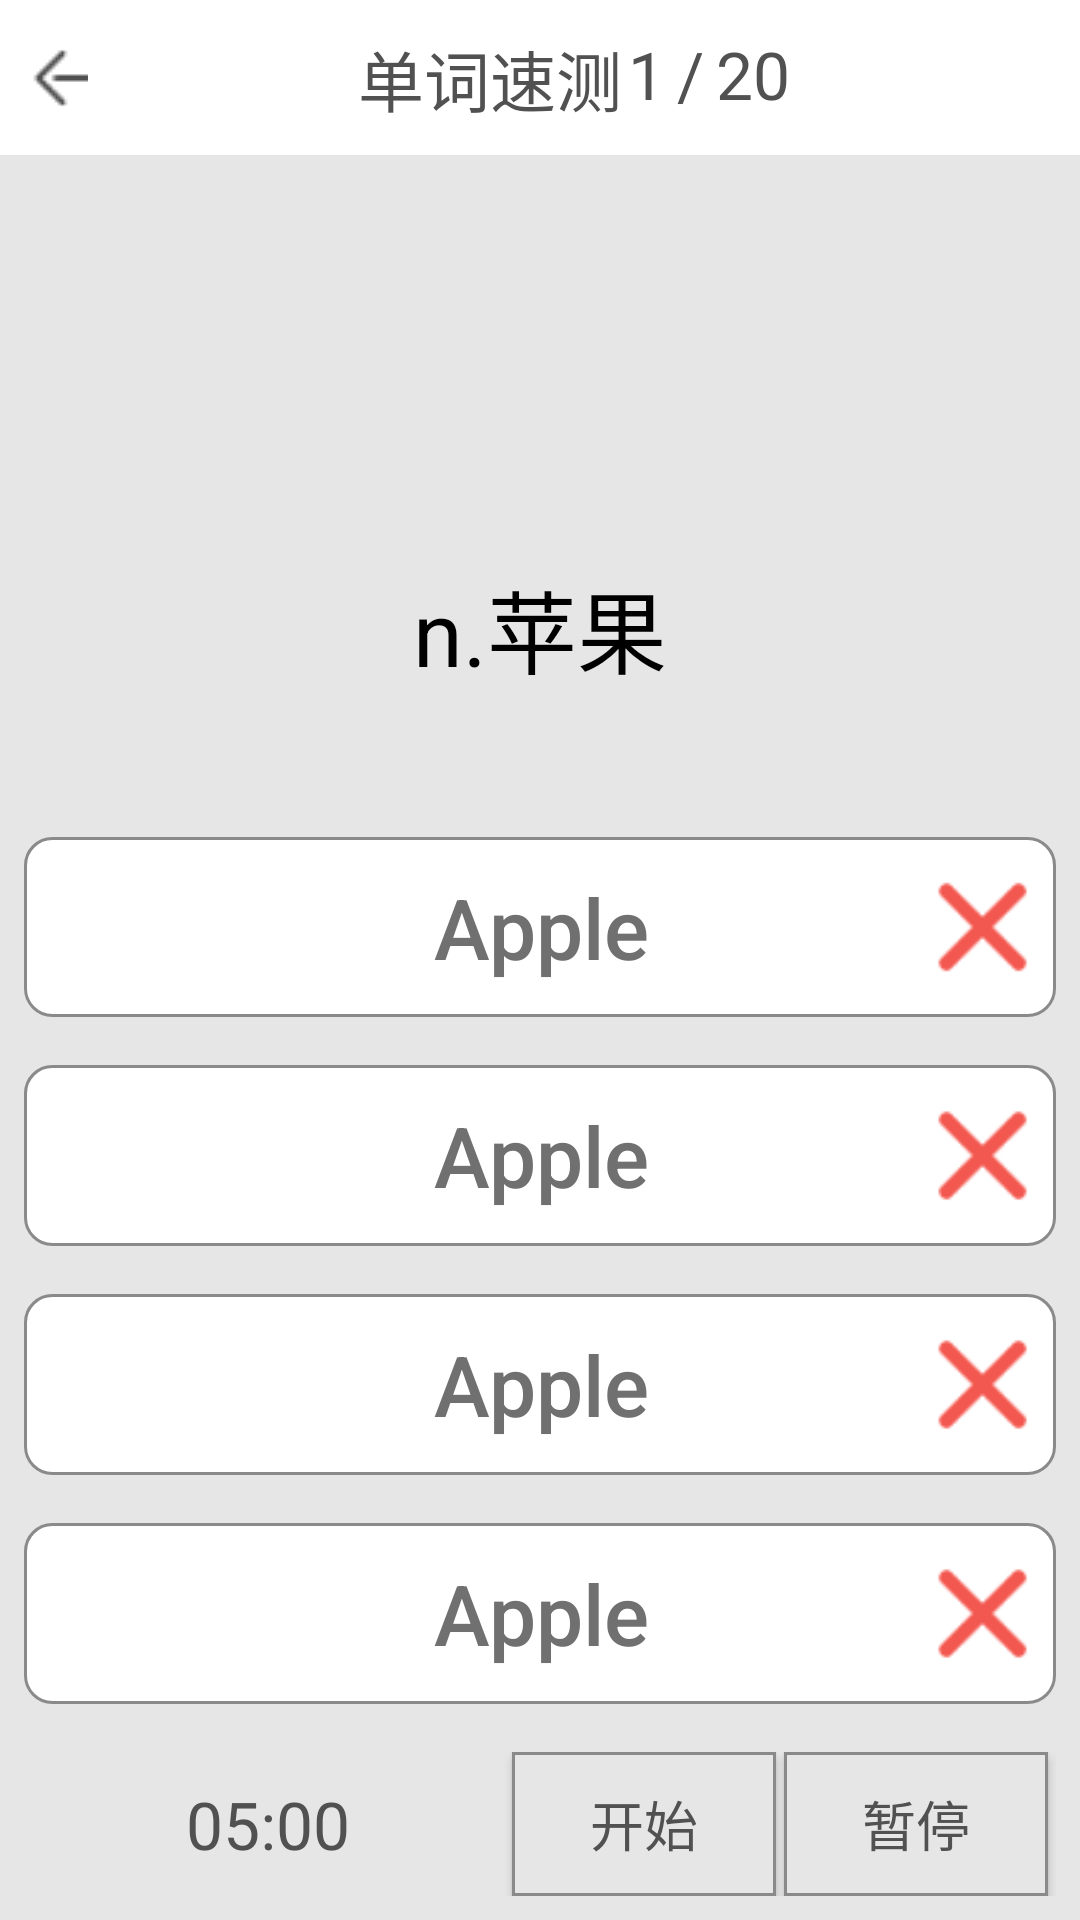

Icon bounding boxes for this 1080px x 1920px phone screenshot, format (x1, y1, x2, y2):
back: (34, 50, 88, 106)
